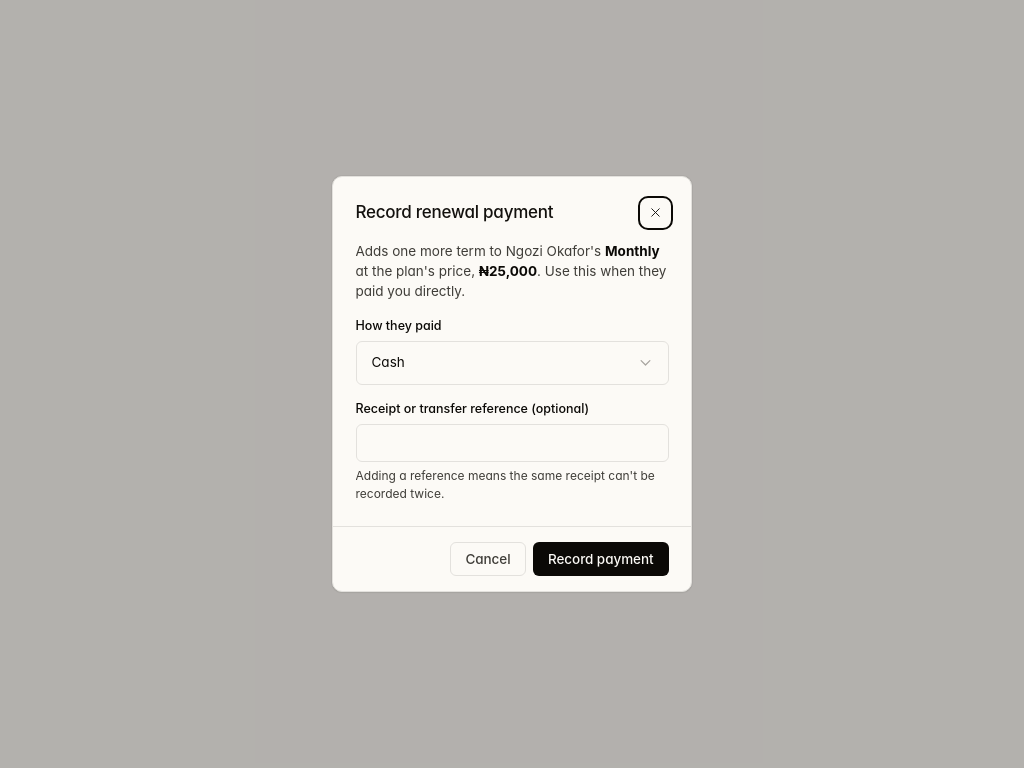
Test: Record renewal payment (gym staff) › says a card payment is still processing (RENEWAL_CHARGE_IN_PROGRESS)
Click the button "Record payment".
click(601, 559)  # box x1=533 y1=542 x2=668 y2=576
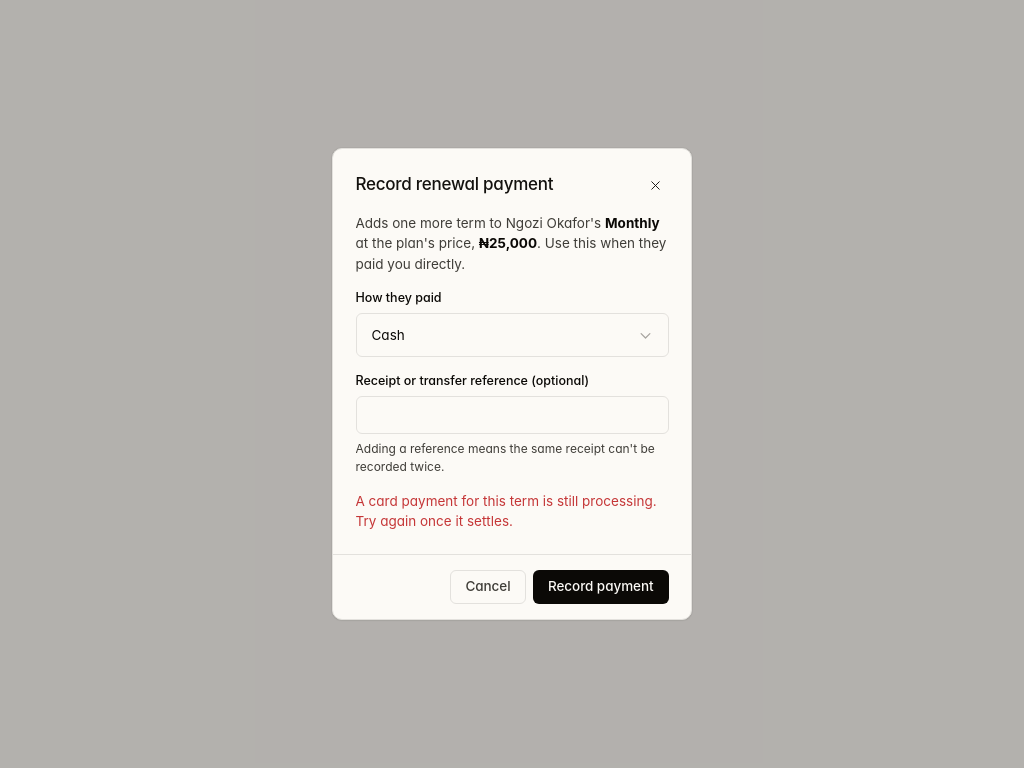
Check: the message reads "A card payment for this term is still processing. Try again once it settles.", box x1=356 y1=493 x2=657 y2=529
